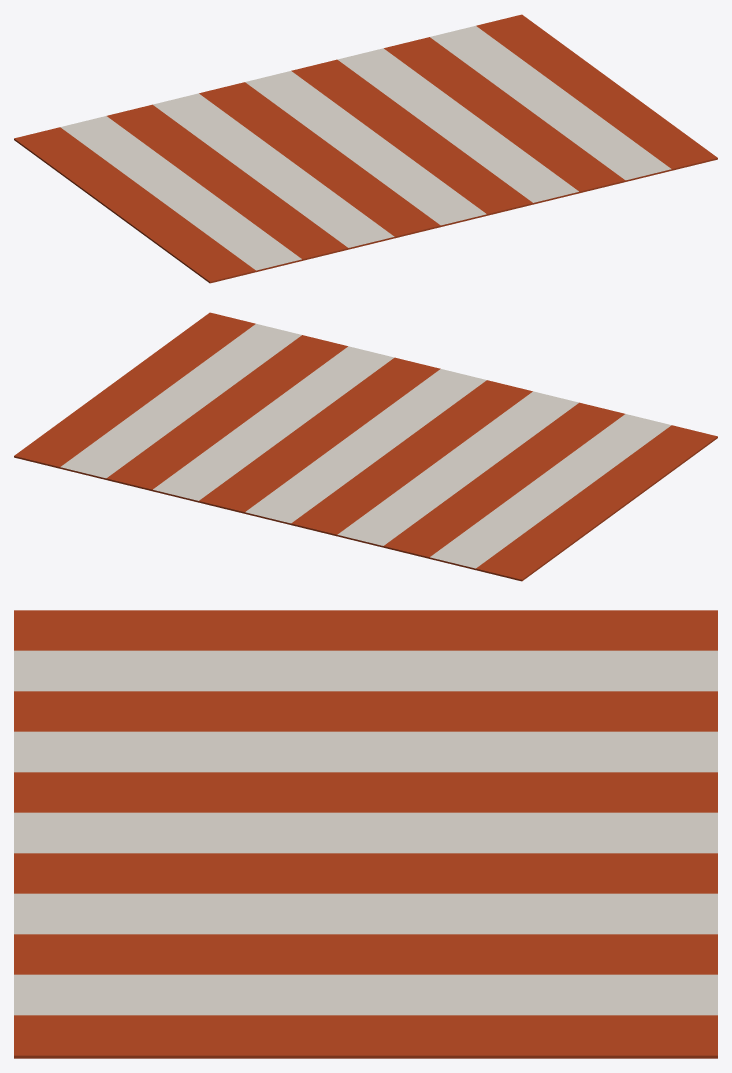
Rendered from koc4.fbx.
The picture shows the model from 3 angles, top to bottom: view 1: azimuth 30°, elevation 25°; view 2: azimuth 150°, elevation 25°; view 3: azimuth 270°, elevation 25°; orthographic projection. The views are drawn at different scales.
Parts seen in each view (by area): view 1: koc4; view 2: koc4; view 3: koc4.
Part boxes in pixels (box(x1,y1,x2,y2)): koc4: box(14, 14, 717, 283); koc4: box(14, 312, 717, 581); koc4: box(14, 610, 717, 1058).
Bounding box in the file's own units: 205 × 307 × 0.9519.
